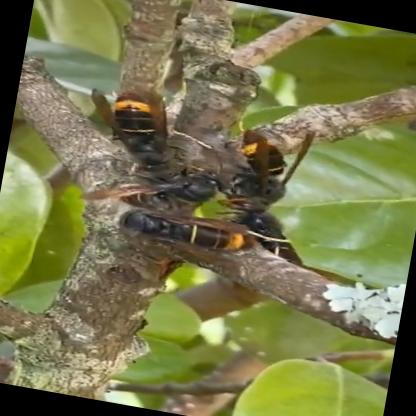bee: (61, 66, 358, 284)
